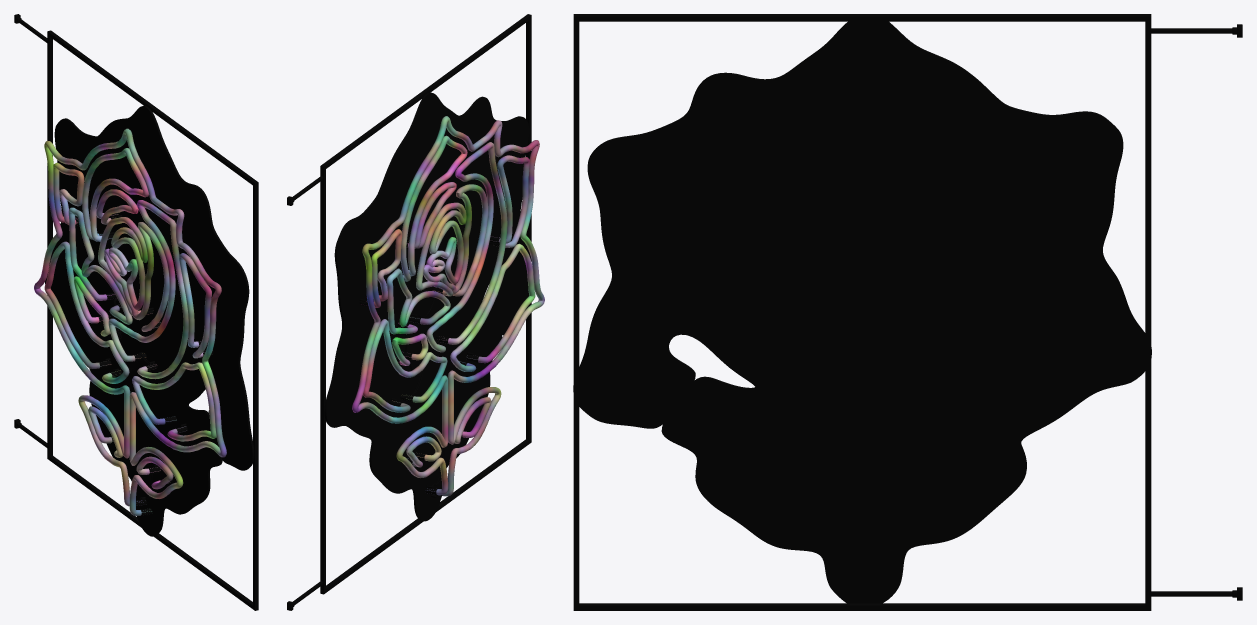
File: neonsign_07.fbx
3 views of the same model, side by side, from view 1: azimuth 30°, elevation 25°; view 2: azimuth 150°, elevation 25°; view 3: azimuth 270°, elevation 25° (orthographic). The views are drawn at different scales.
Parts seen in each view (by area): view 1: neonsign_07; view 2: neonsign_07; view 3: neonsign_07.
Part boxes in pixels (left/top/right/bottom): neonsign_07: left=14, top=14, right=258, bottom=610; neonsign_07: left=287, top=14, right=544, bottom=610; neonsign_07: left=573, top=14, right=1242, bottom=610.
Bounding box in the file's own units: 0.1523 × 2.26 × 2.3.
